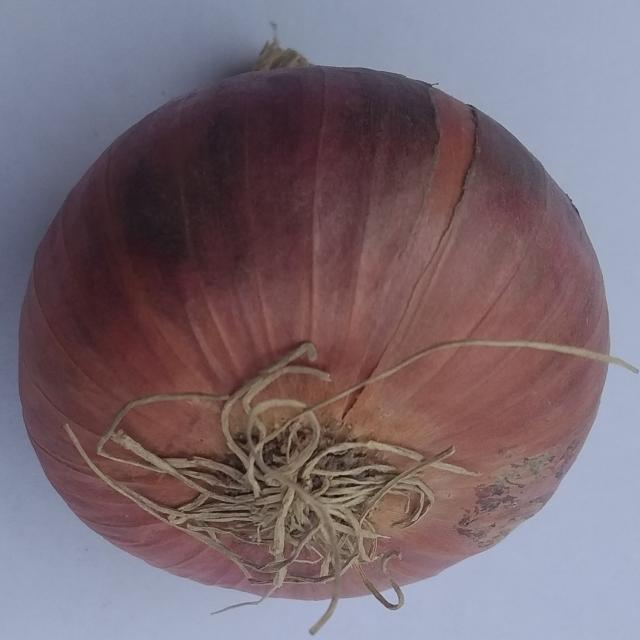onion: (17, 38, 614, 620)
